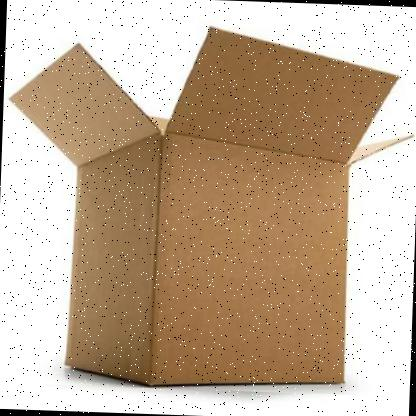box: (7, 25, 416, 387)
opened: (7, 26, 416, 169)
